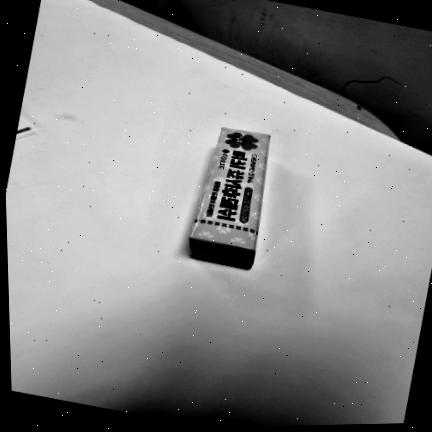gum_yellow: (190, 128, 270, 269)
